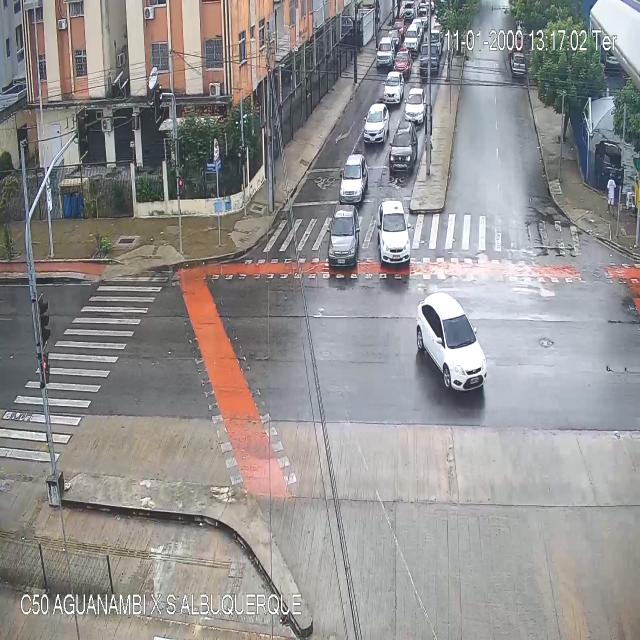Car: (416, 290, 488, 390), (376, 200, 411, 264), (328, 204, 359, 270), (388, 120, 418, 174), (338, 156, 368, 204), (364, 102, 389, 144), (404, 88, 423, 124), (383, 72, 403, 102), (420, 46, 439, 74), (376, 37, 394, 66), (394, 50, 413, 74), (404, 27, 420, 52), (511, 52, 526, 75), (427, 32, 442, 52), (388, 30, 401, 49), (417, 7, 428, 27), (394, 18, 406, 36)
